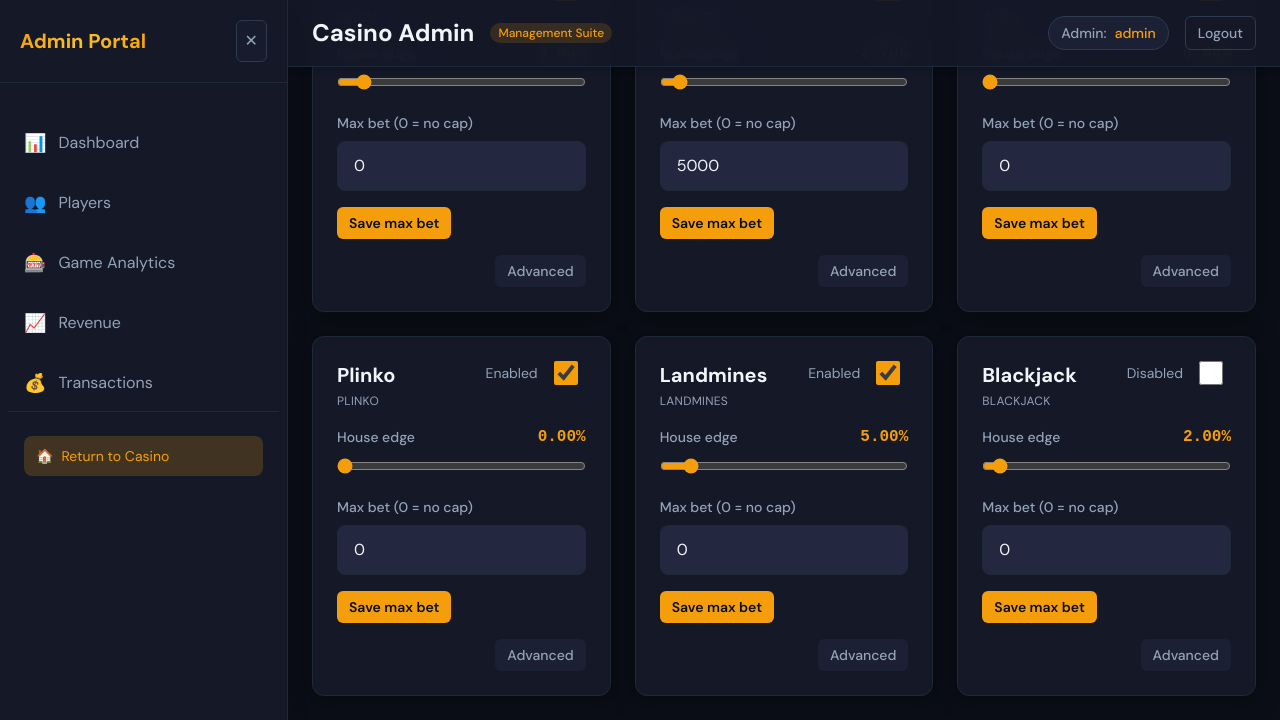
GamesConfigPage › advanced payout editor modal › renders the Blackjack editor when Advanced is opened for blackjack
(page scrolled)
Click the button with test id "advanced-blackjack" at (1186, 655), box [1141,639,1231,671]
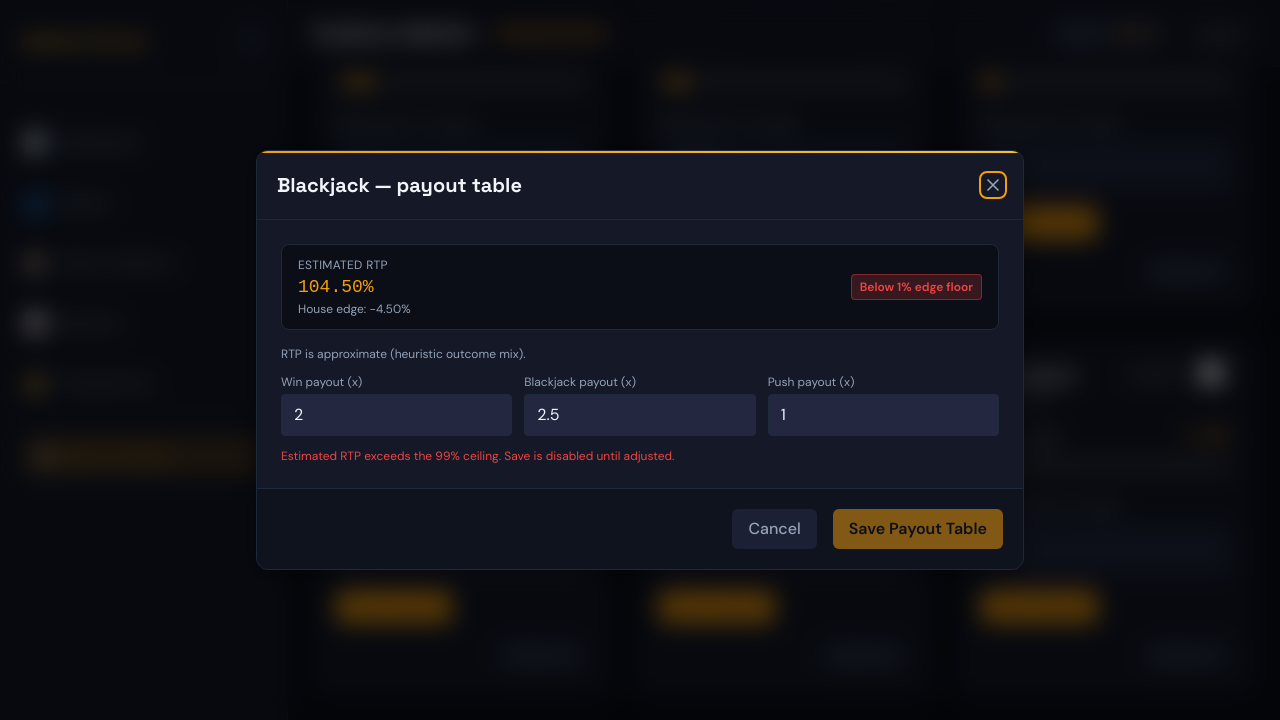
Expected: the element with test id "blackjack-payout-editor" is shown, [281,244,999,464]
